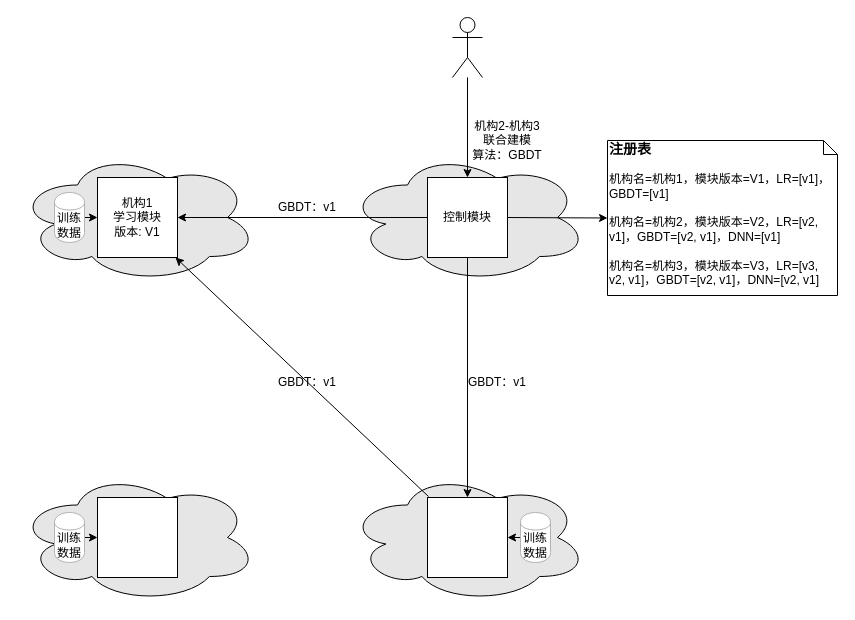
This 855x620 diagram has some shape labels left out. The shapes that lost their labels are listed below. From the top down, each one's centre as x and y in pixels, then its label:
At (467,47): "联合建模 管理员".
At (137,537): "机构2 学习模块 版本: V2".
At (467,537): "机构3 学习模块 版本: V3".
